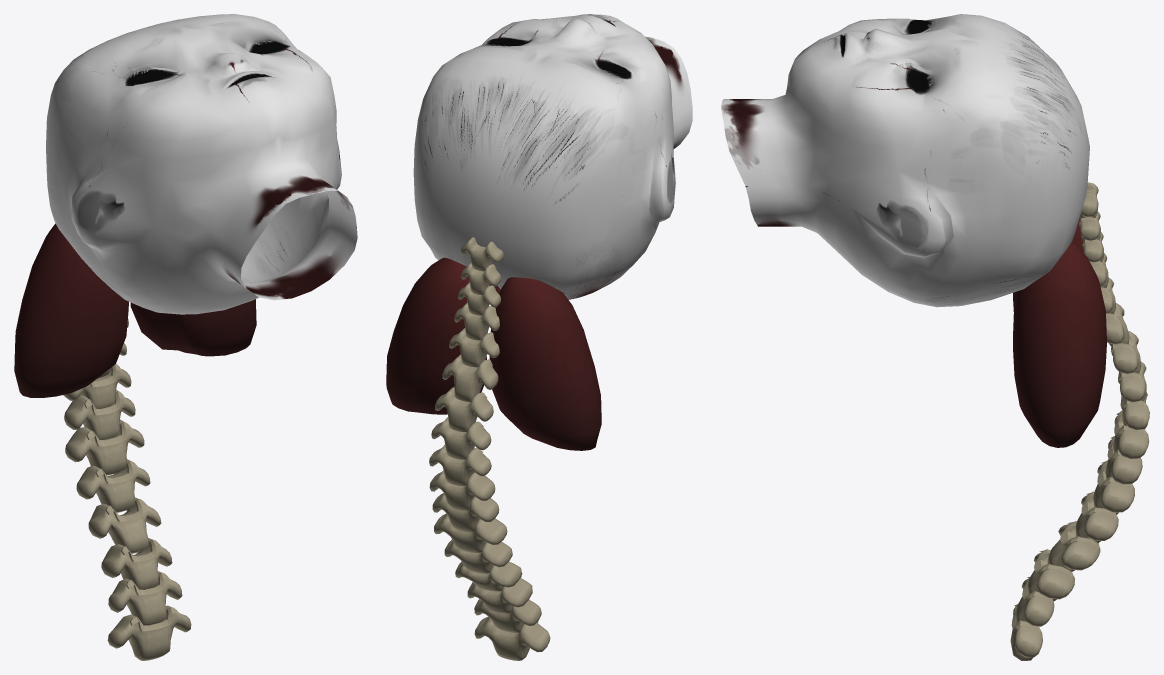
File: BabyPenanggalFloatingV3.fbx
3 renders of one model, left to right at view 1: azimuth 30°, elevation 25°; view 2: azimuth 150°, elevation 25°; view 3: azimuth 270°, elevation 25°, orthographic. The views are drawn at different scales.
Parts seen in each view (by area): view 1: Baby, LungLeft, LungLeft001, spine017, spine013, spine011, spine012, spine016, spine014, spine010, spine009; view 2: Baby, LungLeft, LungLeft001, spine017, spine005, spine011, spine006, spine009, spine008, spine007, spine010, spine014 (+8 smaller); view 3: Baby, LungLeft001, spine013, spine014, spine012, spine011, spine016, spine017, spine009, spine010, spine006, spine007 (+2 smaller).
Boxes of the visible parts, box(x1,y1,x2,y2) form: Baby: box(46, 14, 357, 314); LungLeft: box(14, 223, 128, 397); LungLeft001: box(130, 299, 256, 356); spine017: box(107, 605, 191, 660); spine013: box(88, 497, 161, 553); spine011: box(65, 419, 144, 475); spine012: box(76, 459, 150, 512); spine016: box(108, 571, 182, 625); spine014: box(101, 538, 172, 589); spine010: box(64, 389, 135, 439); spine009: box(63, 364, 131, 408); Baby: box(413, 14, 692, 299); LungLeft: box(489, 277, 601, 450); LungLeft001: box(386, 257, 486, 414); spine017: box(474, 616, 550, 660); spine005: box(442, 354, 498, 402); spine011: box(434, 513, 507, 552); spine006: box(435, 387, 493, 432); spine009: box(429, 470, 495, 510); spine008: box(429, 445, 491, 485); spine007: box(431, 417, 491, 459); spine010: box(432, 493, 499, 532); spine014: box(467, 576, 532, 613); Baby: box(721, 14, 1089, 307); LungLeft001: box(1013, 242, 1106, 447); spine013: box(1047, 521, 1100, 571); spine014: box(1028, 549, 1074, 601); spine012: box(1075, 491, 1118, 542); spine011: box(1093, 460, 1134, 514); spine016: box(1015, 577, 1054, 626); spine017: box(1010, 604, 1042, 660); spine009: box(1113, 410, 1149, 459); spine010: box(1105, 436, 1142, 484); spine006: box(1111, 331, 1141, 374); spine007: box(1118, 361, 1146, 402).
Size of the model in its own units: 118 by 290 by 180.
